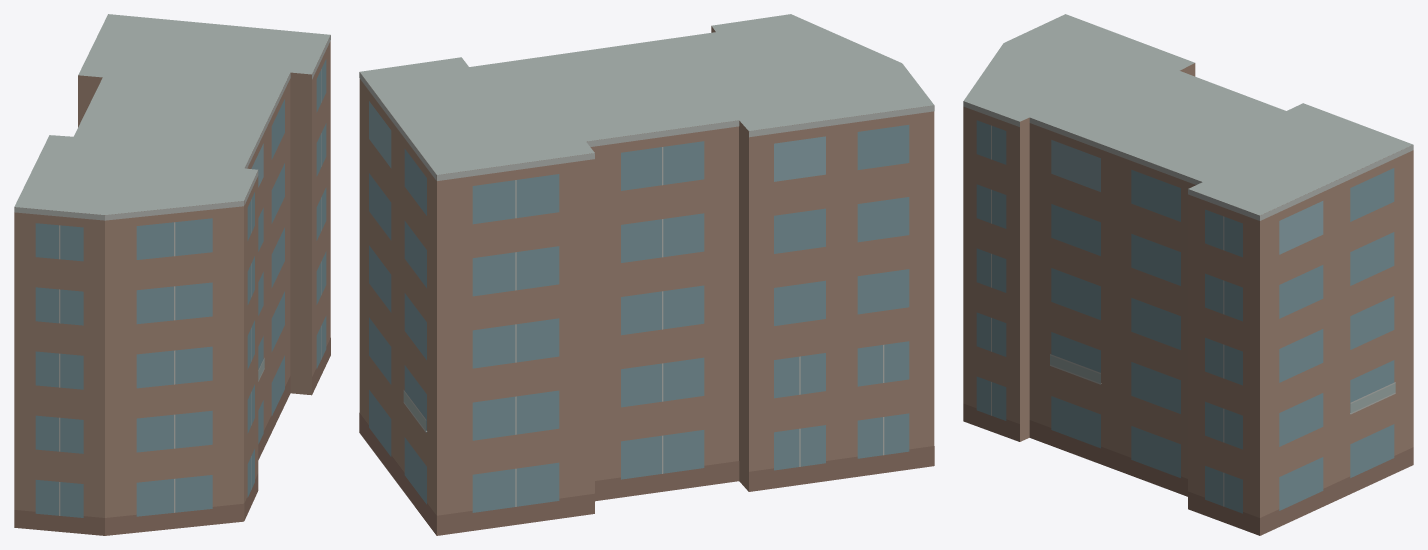
Rendered from survey-upis-32526231.glb.
3 views of the same model, side by side, from view 1: azimuth 30°, elevation 25°; view 2: azimuth 150°, elevation 25°; view 3: azimuth 270°, elevation 25° (orthographic). The views are drawn at different scales.
Parts seen in each view (by area): view 1: survey-upis-32526231.tmp; view 2: survey-upis-32526231.tmp; view 3: survey-upis-32526231.tmp.
Boxes of the visible parts, x1,y1,x2,y2 form: survey-upis-32526231.tmp: (14, 14, 330, 535); survey-upis-32526231.tmp: (359, 14, 934, 535); survey-upis-32526231.tmp: (963, 14, 1413, 535).
Size of the model in its own units: 19.38 by 14.35 by 18.29.
